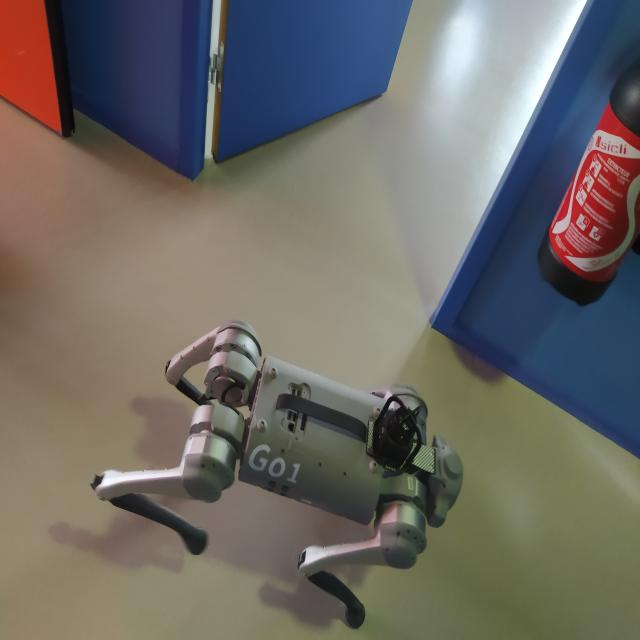unitree-go1-robot: (83, 311, 470, 640)
